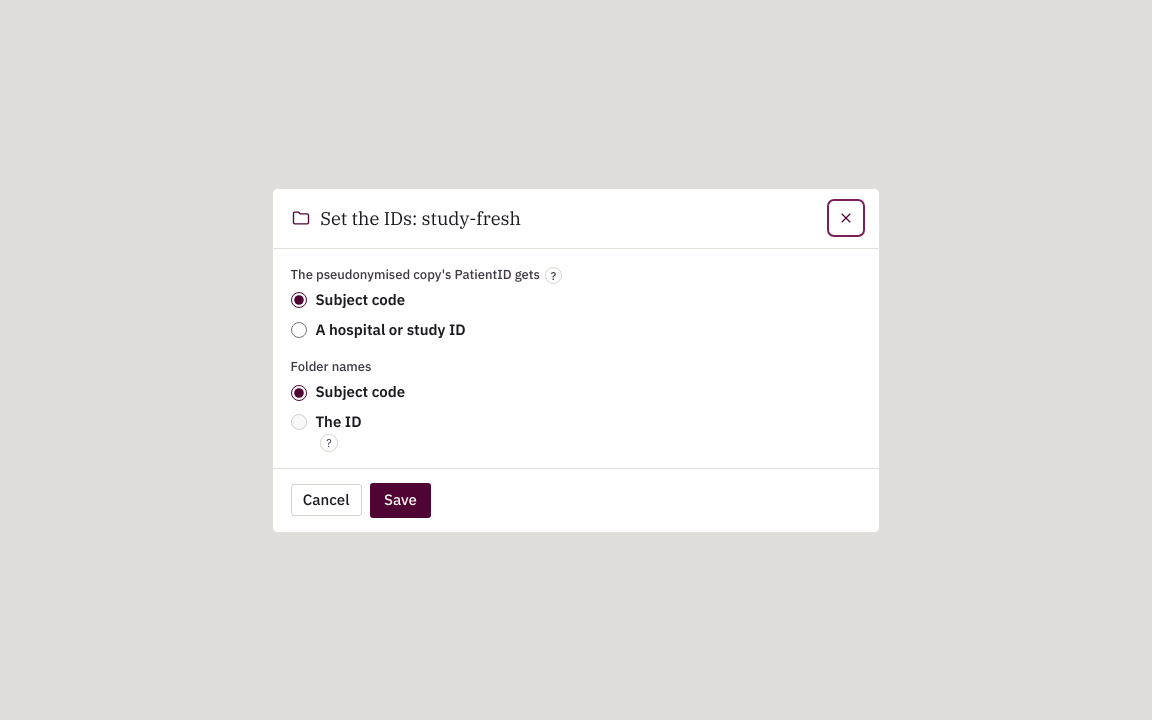
Test: the pseudonymised copy's PatientID (2026-10-10) › is asked apart from what the originals hold, the subject code first, an ID only behind a plain warning and never PatientID as written over an ID the same everyw
The width and height of the screenshot is (1152, 720).
Check: the radio button labelled "Subject code" below "The pseudonymised copy's PatientID gets" is checked, box [291,292,307,308]
Click the radio button labelled "A hospital or study ID".
click(299, 330)  # box [291,322,307,338]
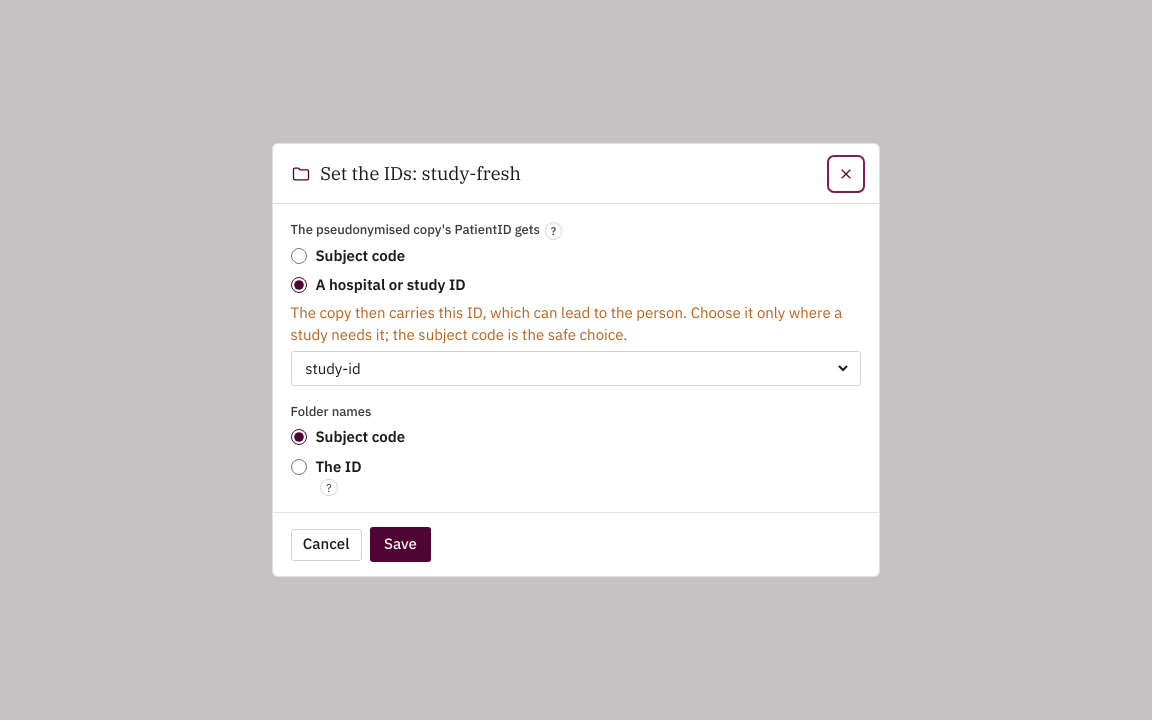
Check: the text with class "warn" shows "The copy then carries this ID", box [291,303,842,344]
